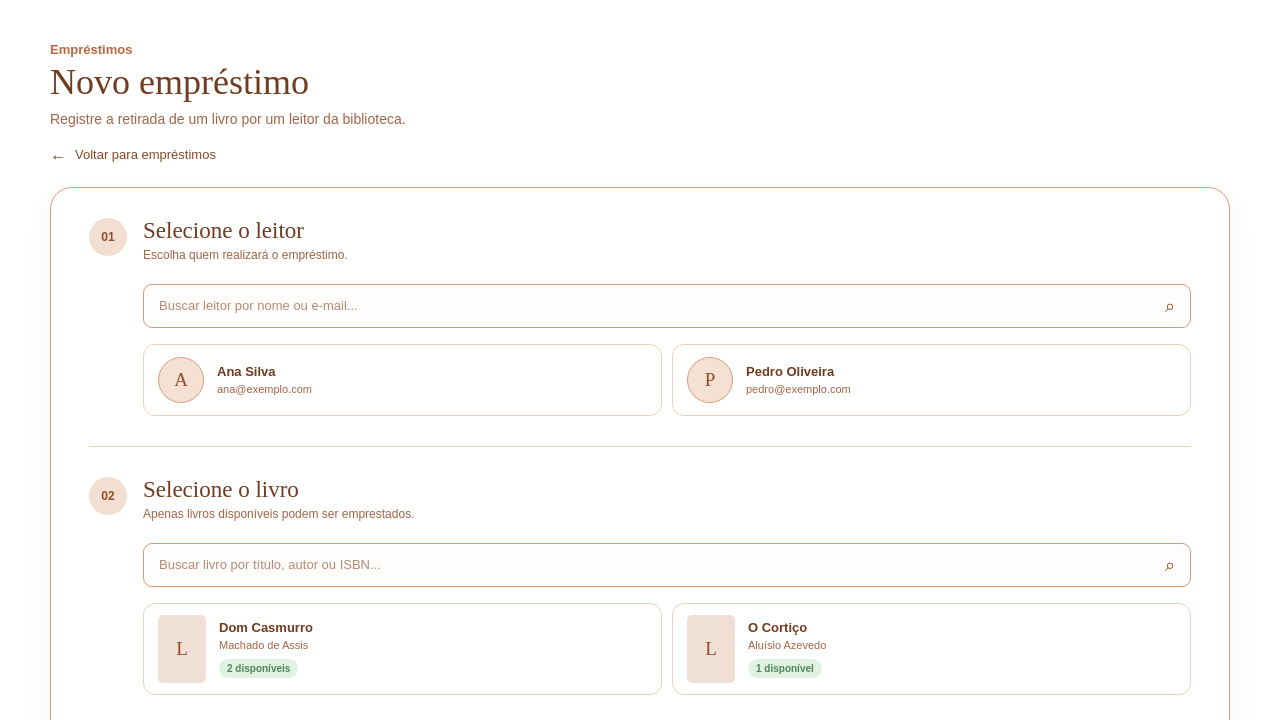
Scenario: Testes de novo empréstimo › deve pesquisar leitores por nome ou e-mail
The width and height of the screenshot is (1280, 720).
Type "PEDRO" into the search field with placeholder "Buscar leitor por nome ou e-mail..." at point(667, 306), box [143, 284, 1191, 328]
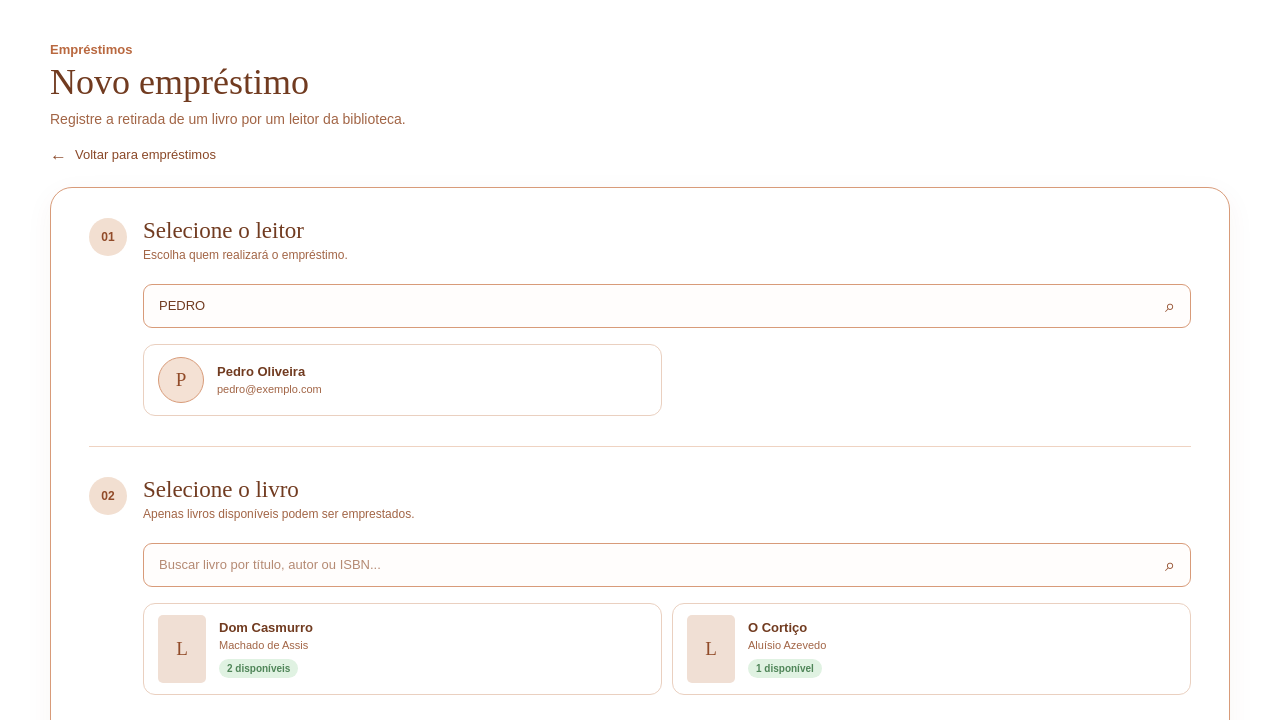
Expected: the button "P Pedro Oliveira pedro@exemplo.com" is shown, [143, 344, 662, 416]
Now the button "Ana Silva" is gone
Replace the text in the search field with placeholder "Buscar leitor por nome ou e-mail..." with "ana@exemplo.com" at point(667, 306), box [143, 284, 1191, 328]
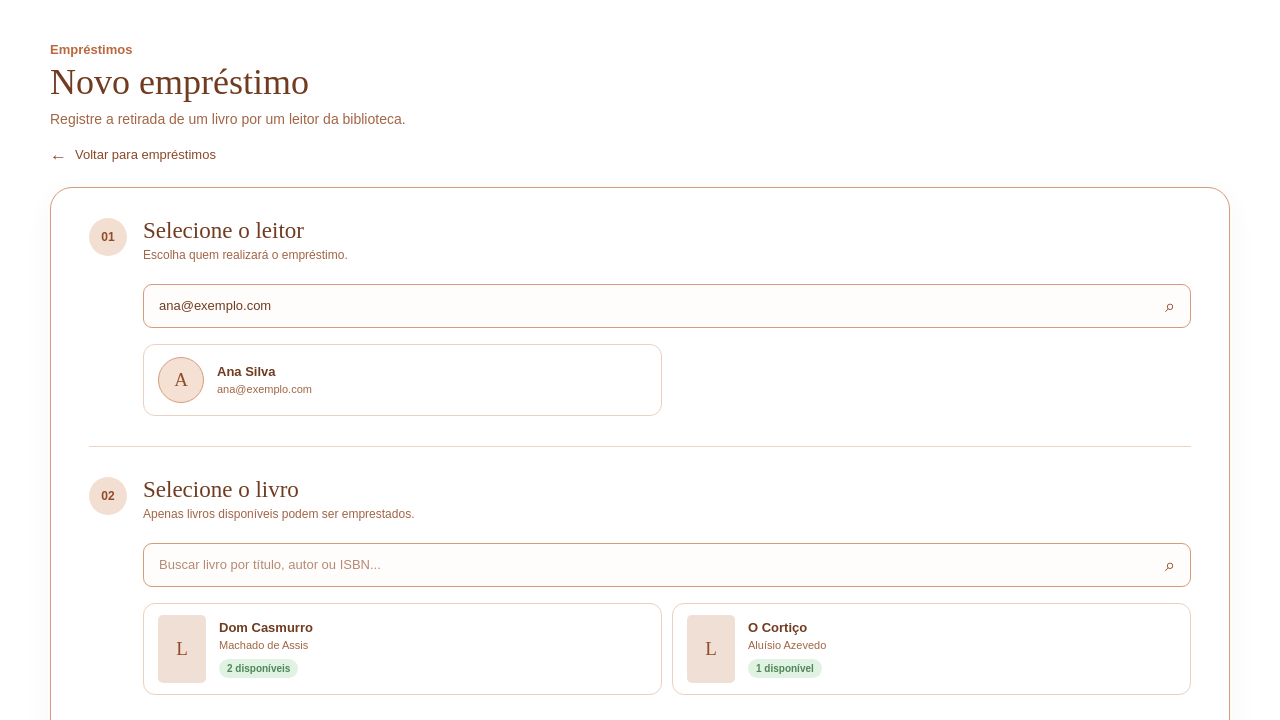
Now the button "A Ana Silva ana@exemplo.com" is shown, box [143, 344, 662, 416]
